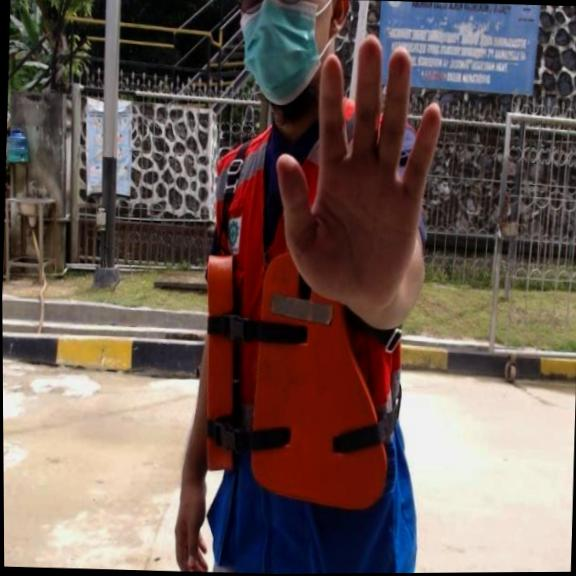safety_vest: (190, 243, 401, 513)
